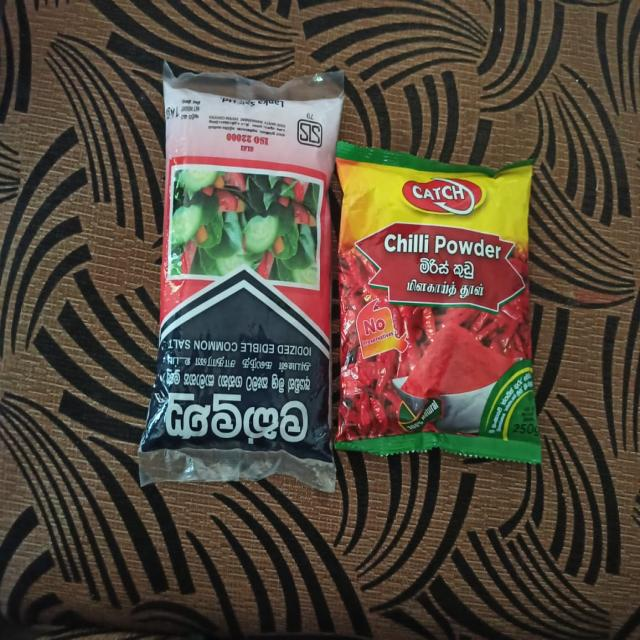Chilli Powder: (338, 130, 542, 488)
Lak Lunu: (140, 49, 338, 493)
